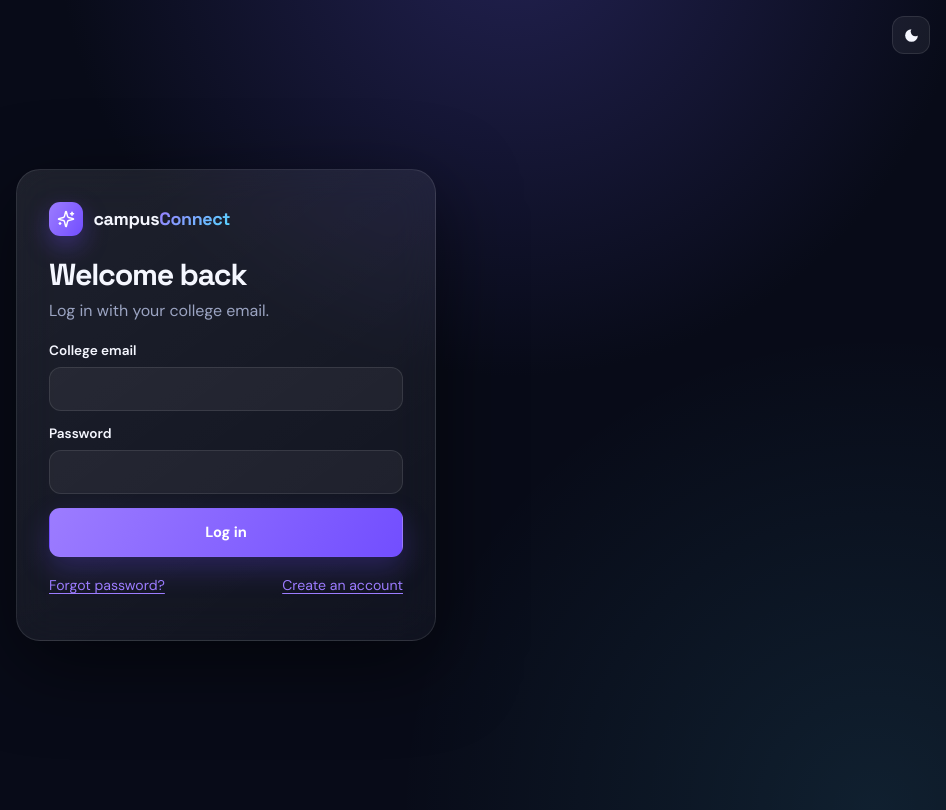
Test: auth pages › shows the server error for bad credentials
Type "a@college.edu" into the field labelled "College email".
click(226, 389); type("a@college.edu")  # box [49,367,403,410]
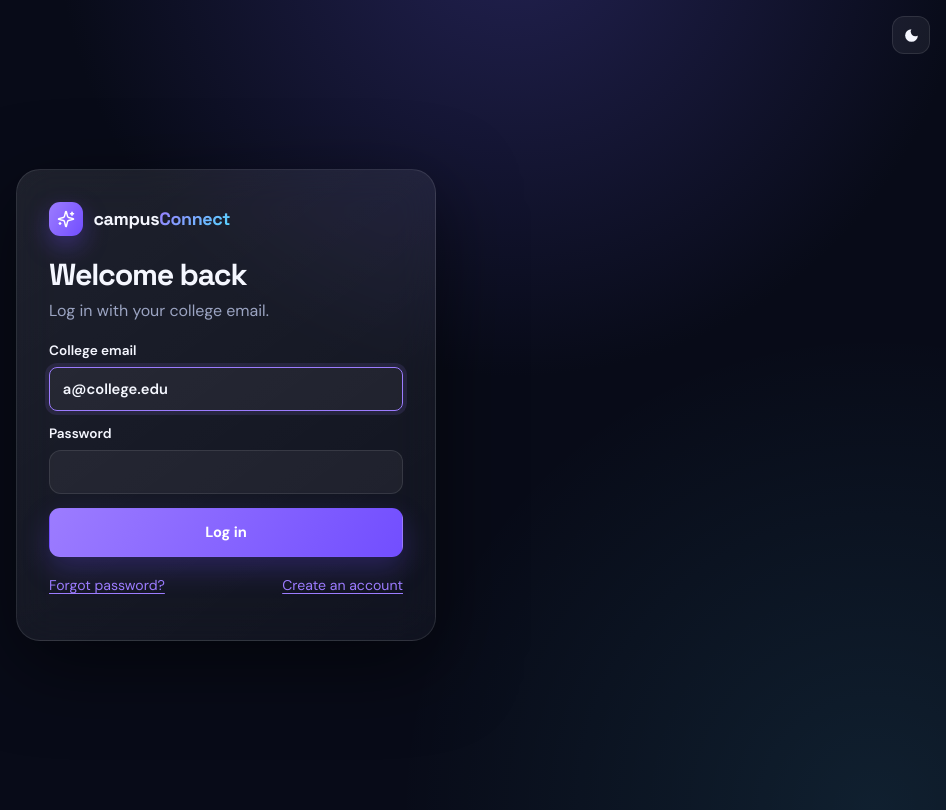
Type "wrong-password" into the password field labelled "Password".
click(226, 472); type("wrong-password")  # box [49,450,403,494]
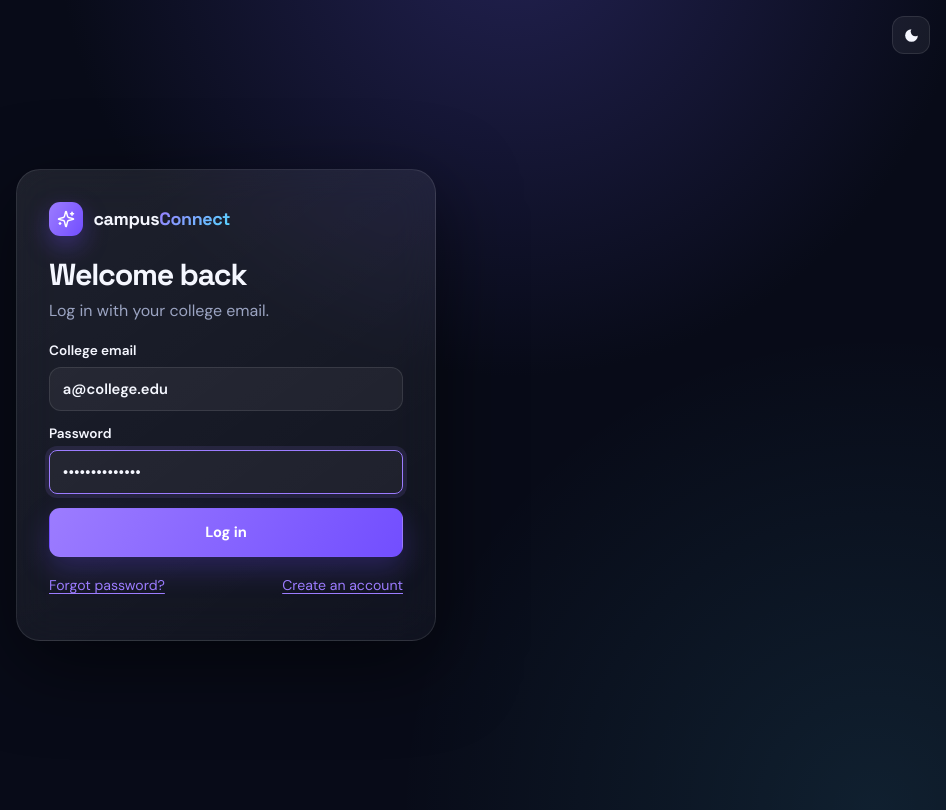
Click the button "Log in".
click(226, 532)  # box [49,508,403,557]
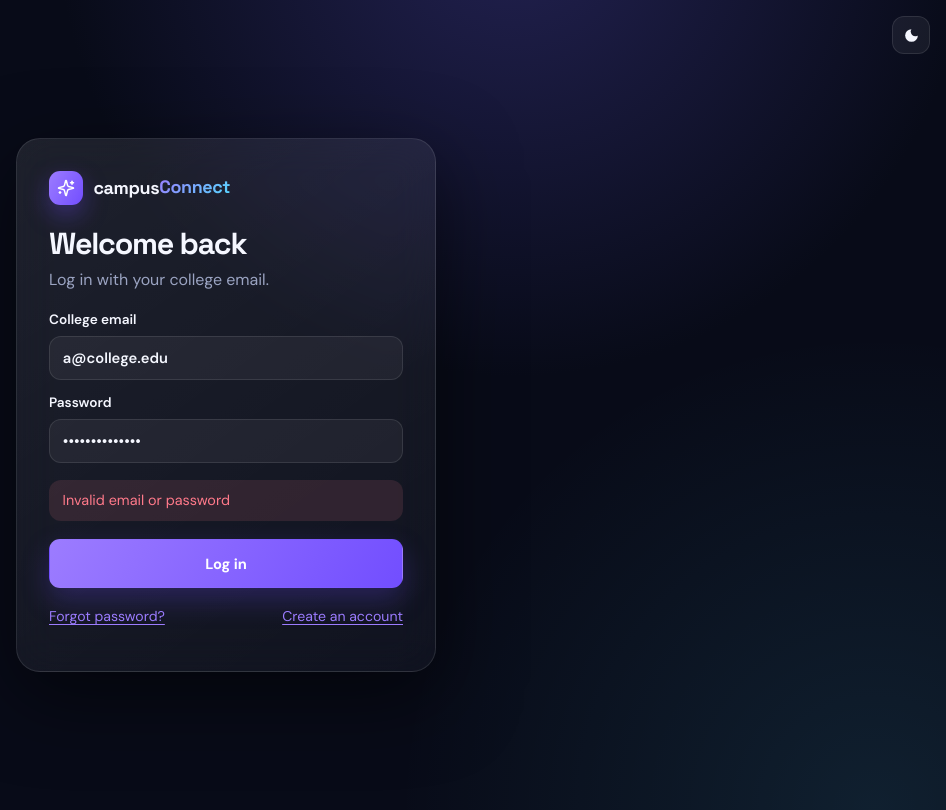
Expected: the message reads "Invalid email or password", [63,491,230,509]
